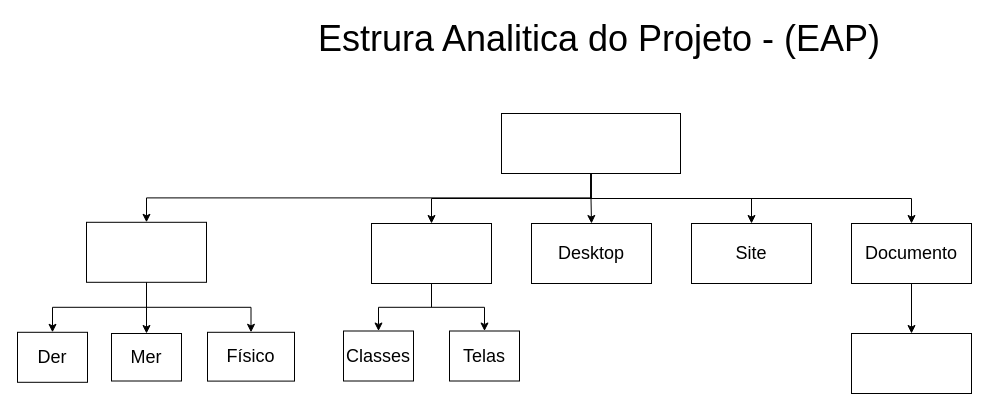
Image size: 989x411. Some labels were removed from this diagram. The shapes that lost their labels are listed below. From the top down, each one's box as (x1, y1, x2, y2) in pixels, then its label:
(500, 112, 680, 174): Mundo verde
(86, 221, 206, 282): Banco de dados
(370, 222, 492, 284): Aplicativo
(850, 332, 972, 394): Diagramas
